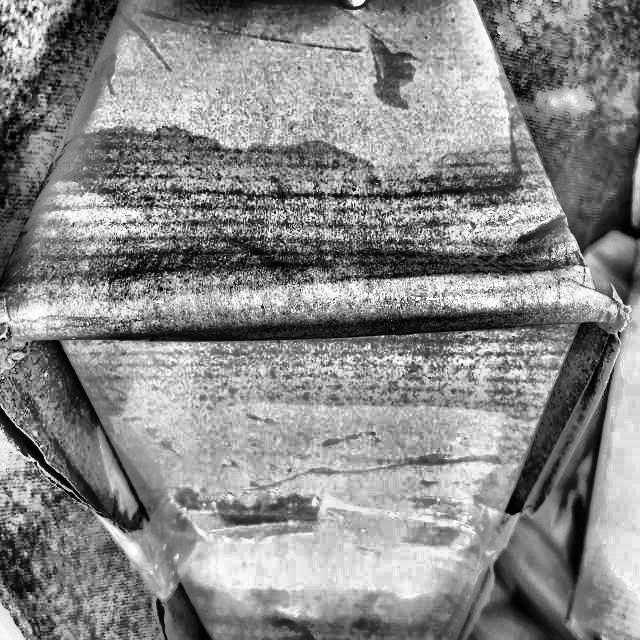box: (0, 0, 636, 639)
wet: (0, 113, 611, 425)
